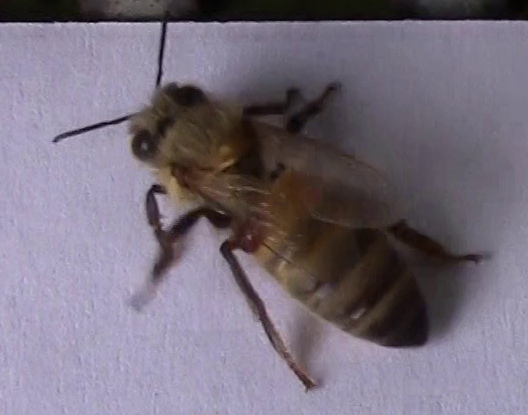Varroa destructor: (235, 208, 271, 256)
